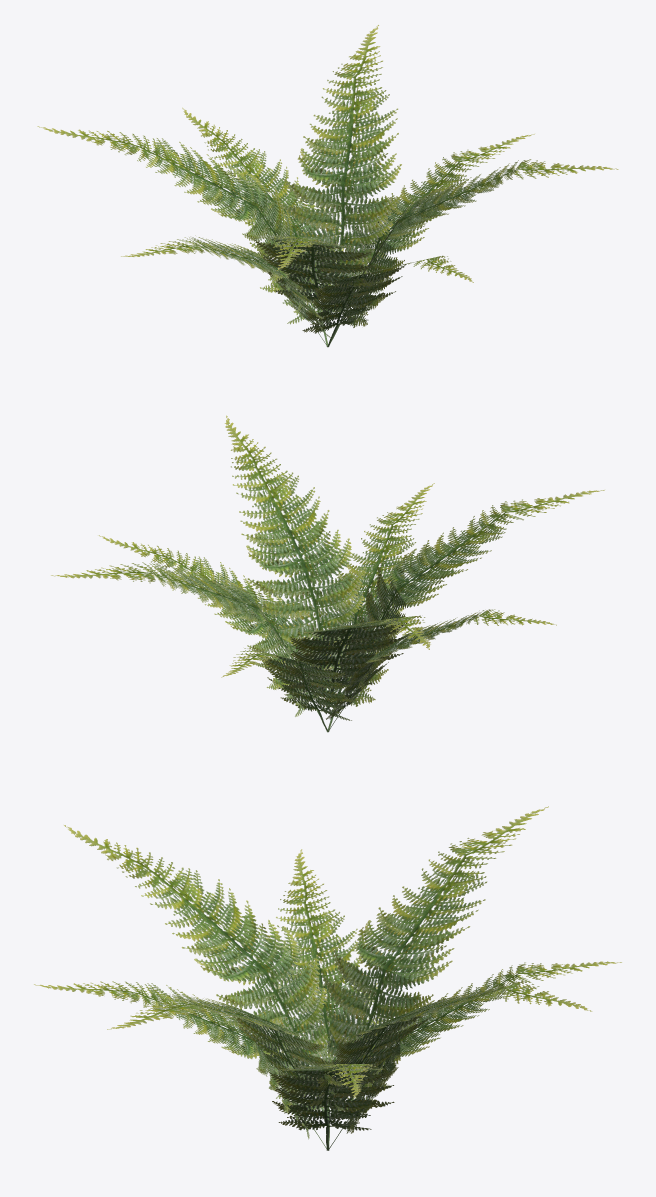
Rendered from Grass.fbx.
3 renders of one model, top to bottom at view 1: azimuth 30°, elevation 25°; view 2: azimuth 150°, elevation 25°; view 3: azimuth 270°, elevation 25°, orthographic. The views are drawn at different scales.
Parts seen in each view (by area): view 1: Плоскость.000; view 2: Плоскость.000; view 3: Плоскость.000.
Part boxes in pixels (box(x1,y1,x2,y2)): Плоскость.000: box(37, 25, 618, 347); Плоскость.000: box(51, 415, 604, 732); Плоскость.000: box(34, 806, 621, 1150).
Size of the model in its own units: 0.4923 by 0.202 by 0.4923.
Materials: 1 (1 with a texture image).
